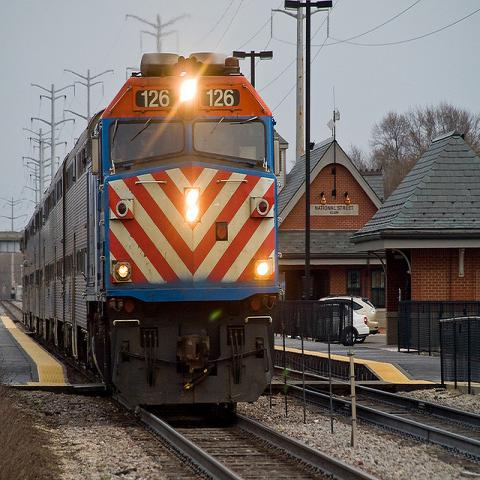car: (294, 304, 351, 347), (320, 295, 381, 333), (354, 309, 370, 342)
